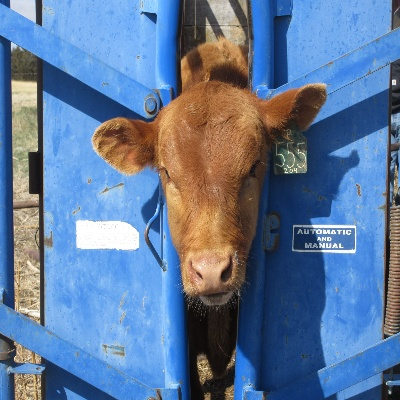fidget_spinner: (176, 248, 238, 297)
